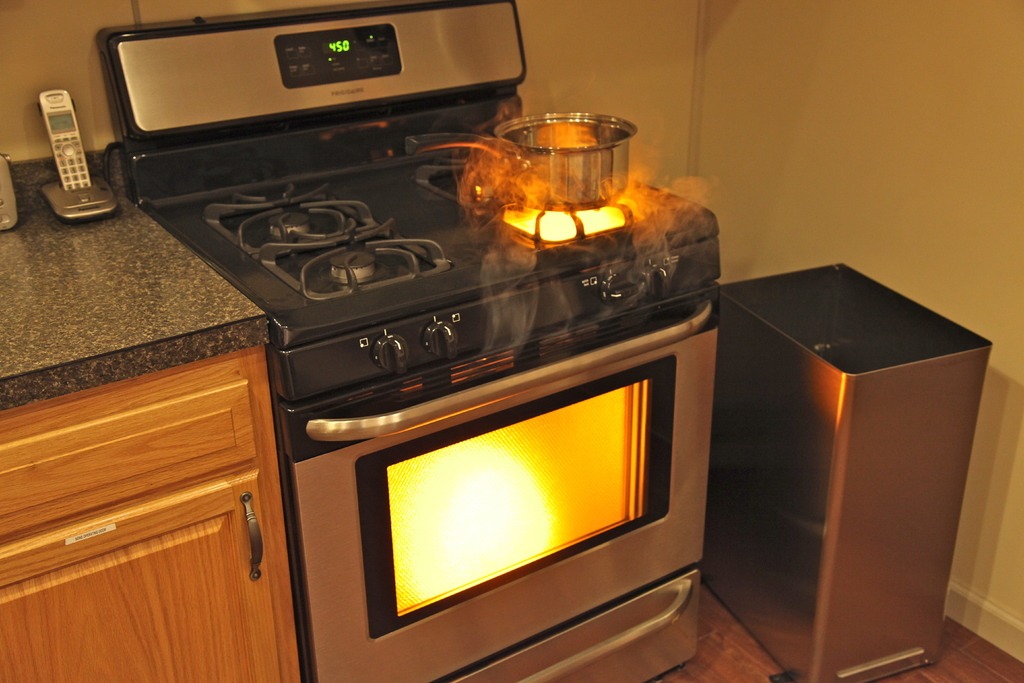cabinet door: (27, 522, 269, 677)
handle: (338, 353, 696, 434), (234, 490, 274, 573)
